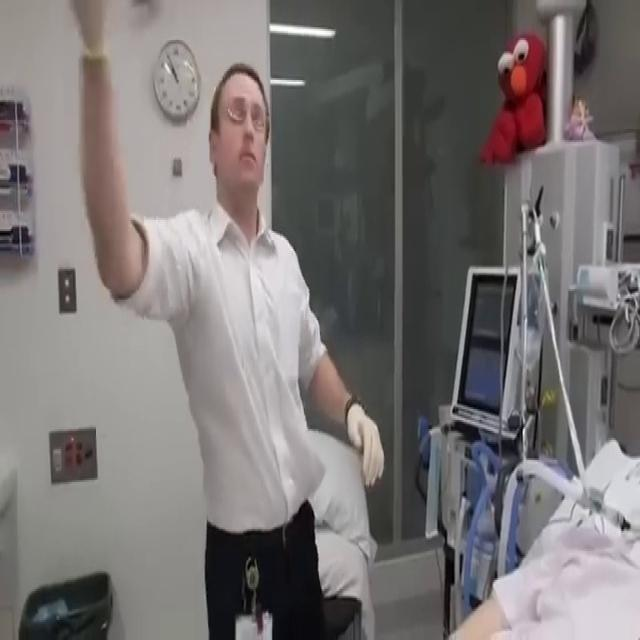doctor: (69, 0, 385, 638)
monitor: (448, 262, 544, 444)
